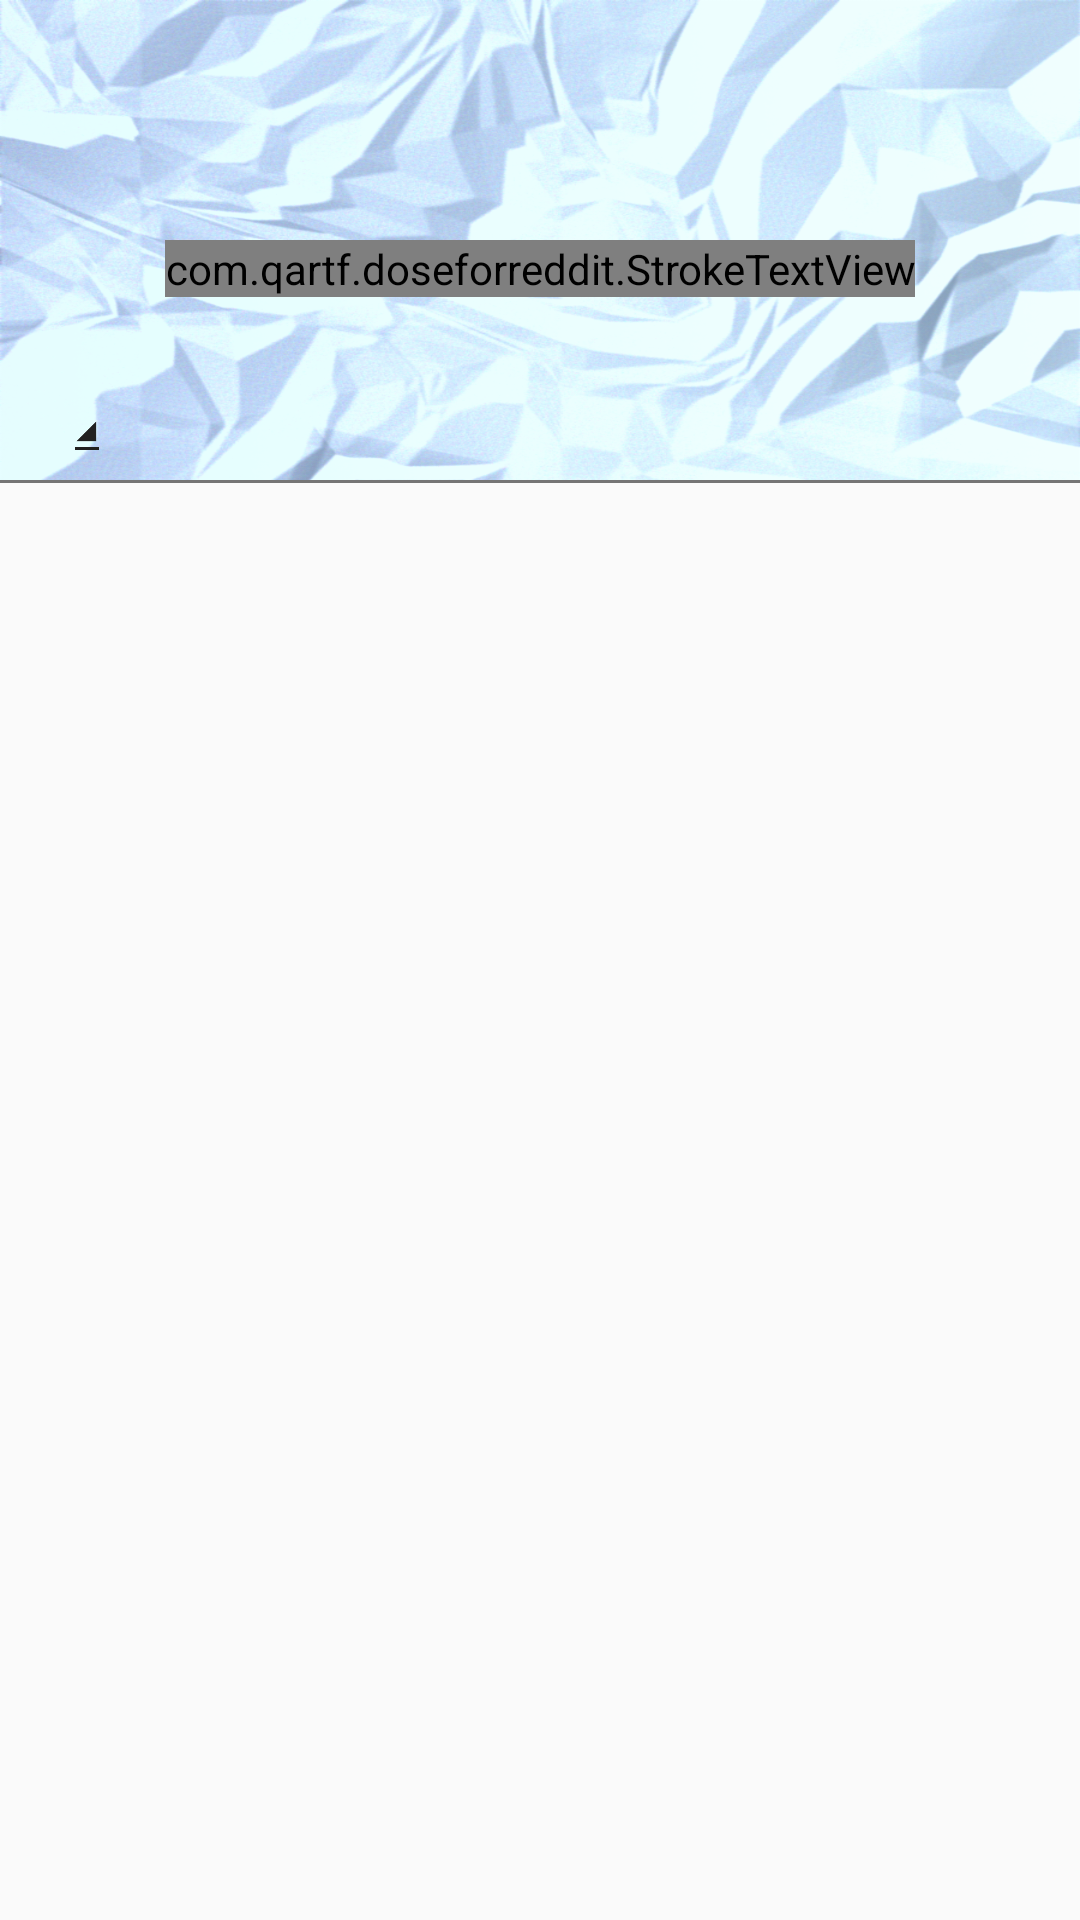

Screen size 1080 x 1920. Icon name, then its center in pixels as (x,y):
signal cellular bar: (87,432)
